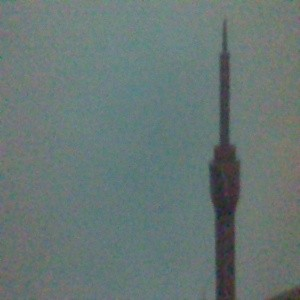solder: (207, 17, 241, 300)
